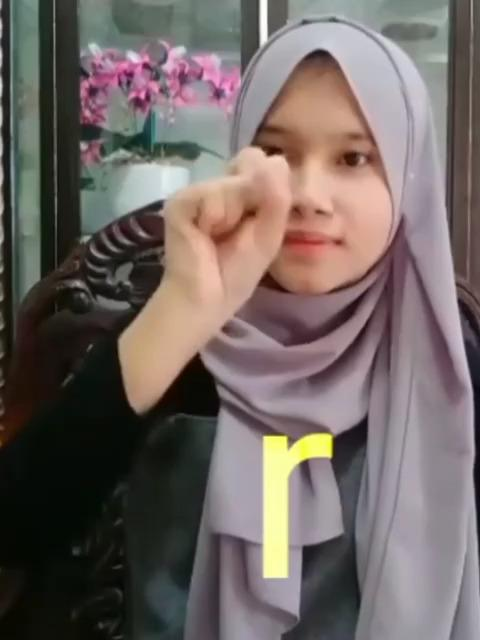S: (158, 140, 292, 318)
